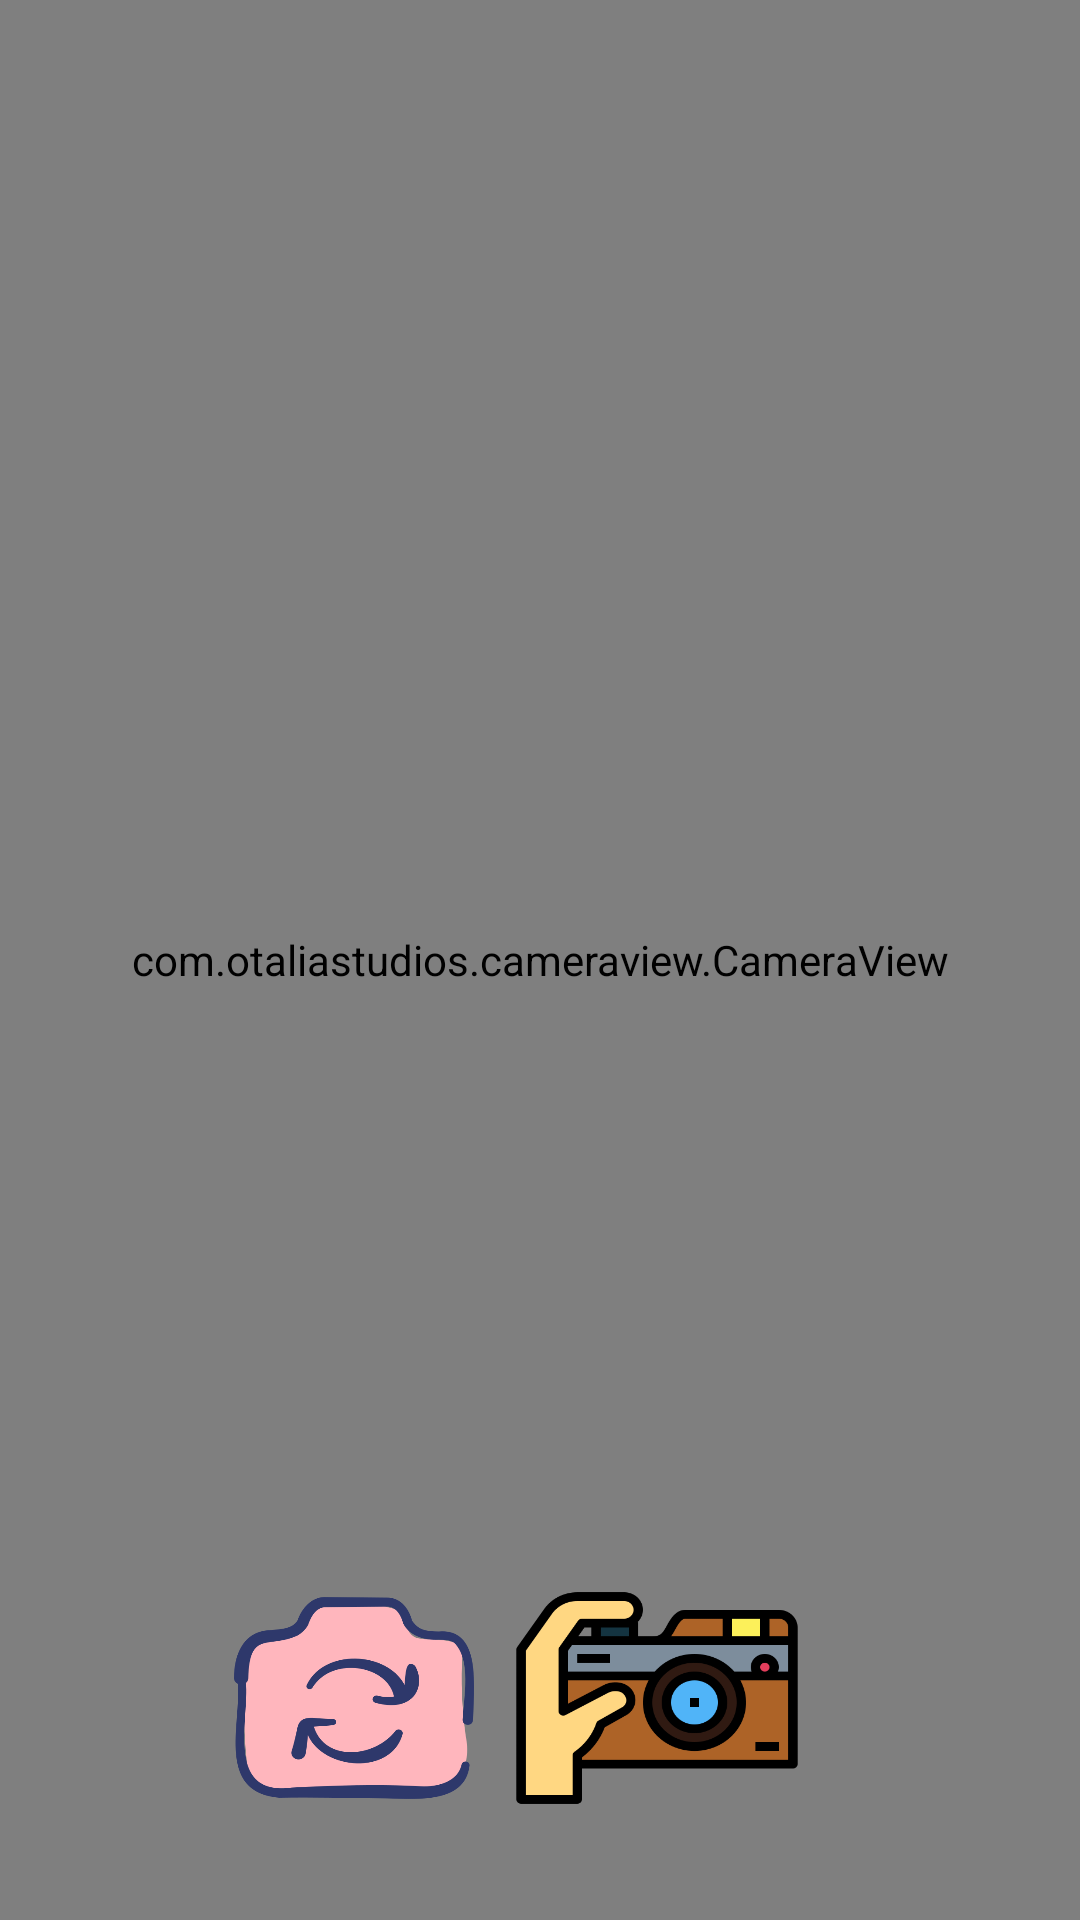

Where icons sit on this 1080 × 1920 app screen, as (x1, y1, x2, y2):
switchcamera: (234, 1597, 474, 1799)
